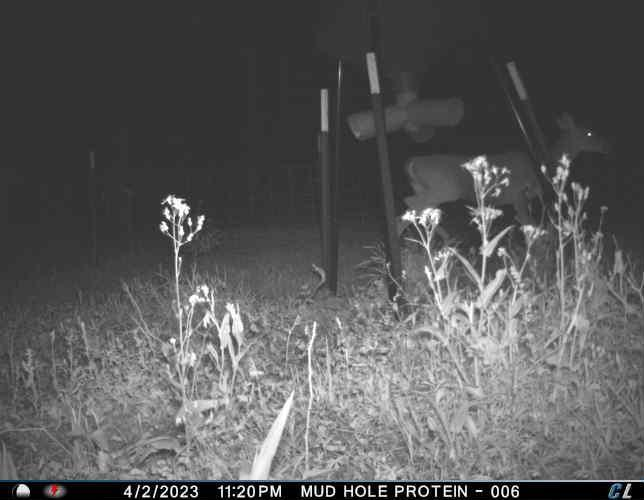Deer: (394, 112, 615, 257)
